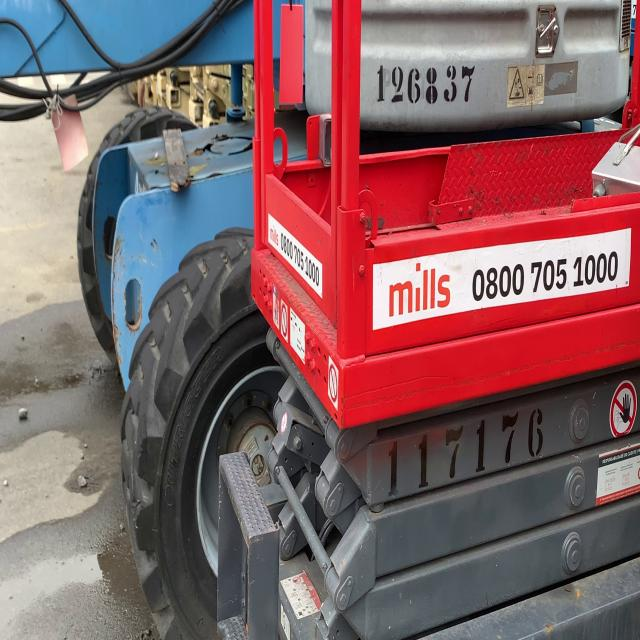Adesivo Longo: (372, 224, 632, 334), (267, 212, 323, 302)
